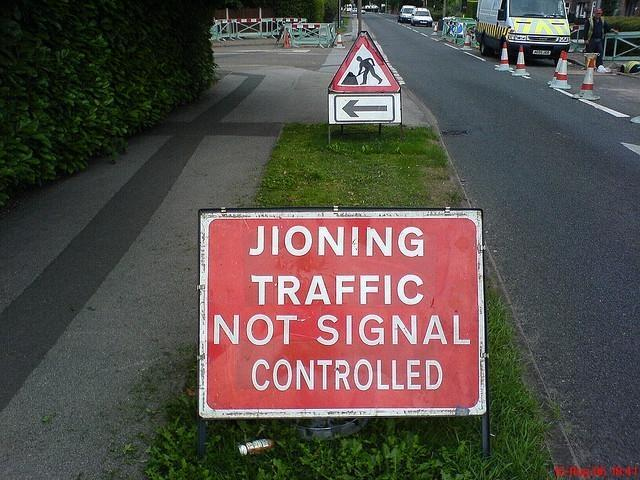car: (411, 8, 432, 26), (399, 5, 416, 23), (351, 8, 366, 15), (462, 21, 477, 28)
truck: (474, 0, 571, 65)
